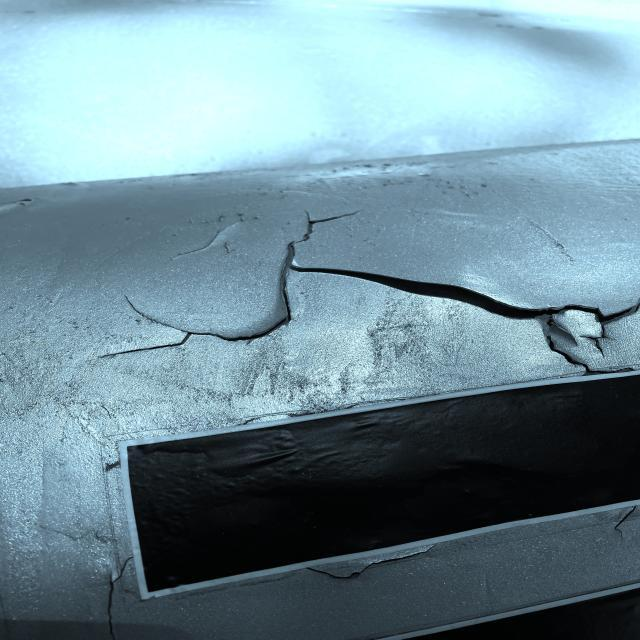crack: (265, 209, 626, 345), (92, 292, 266, 362), (158, 220, 259, 262)
